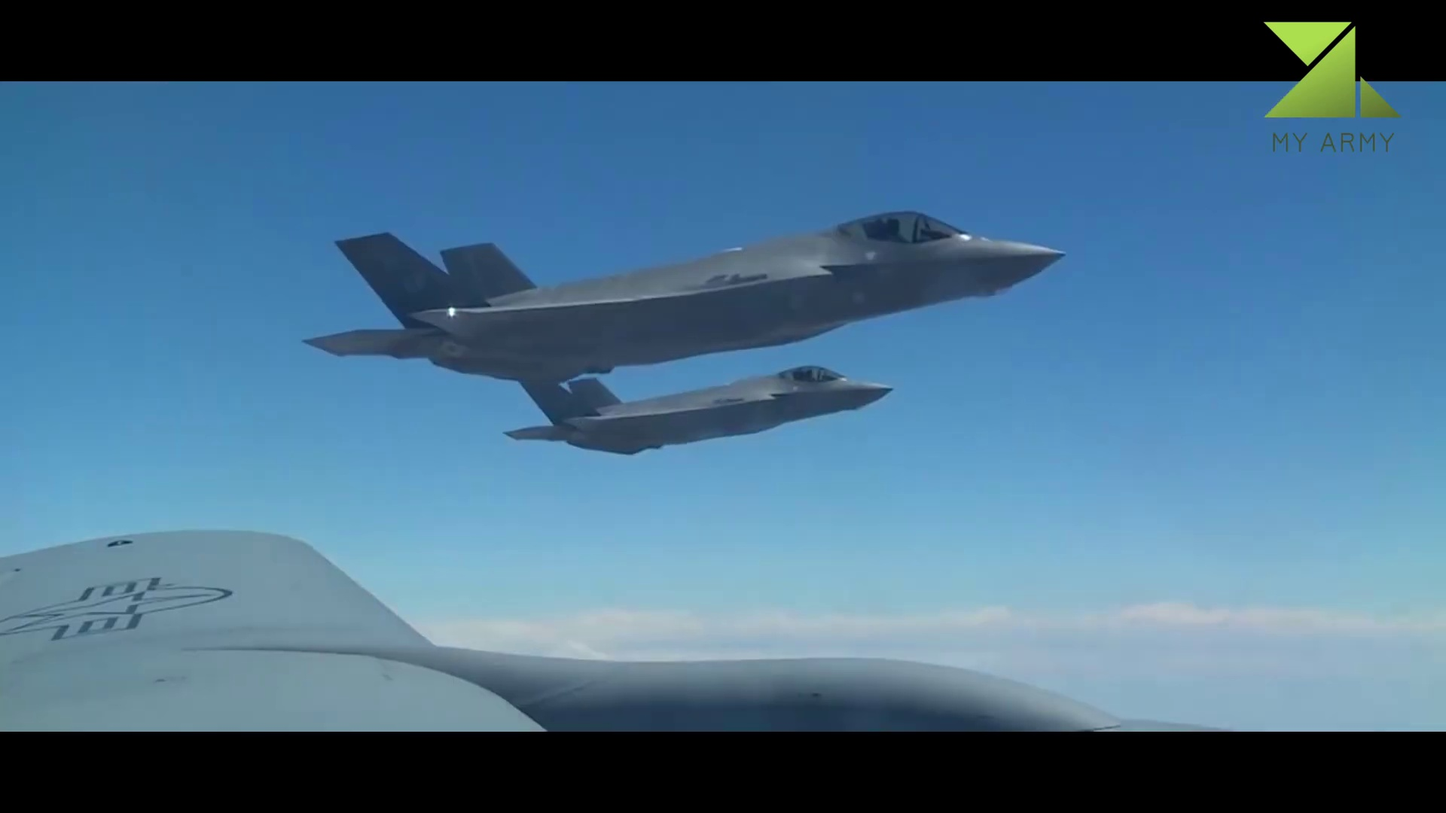F35: (304, 210, 1076, 391), (508, 347, 900, 466)
